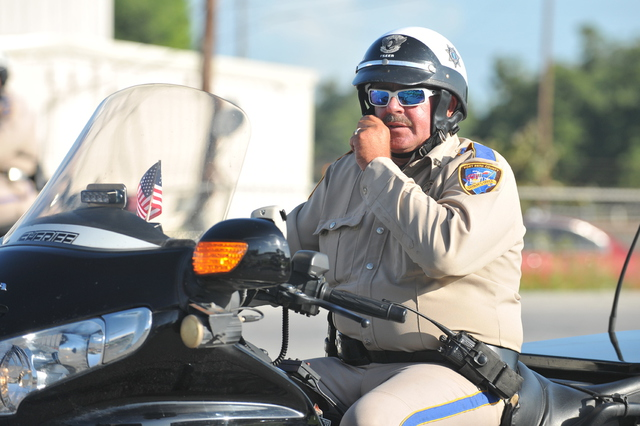helmet: (350, 20, 471, 115)
